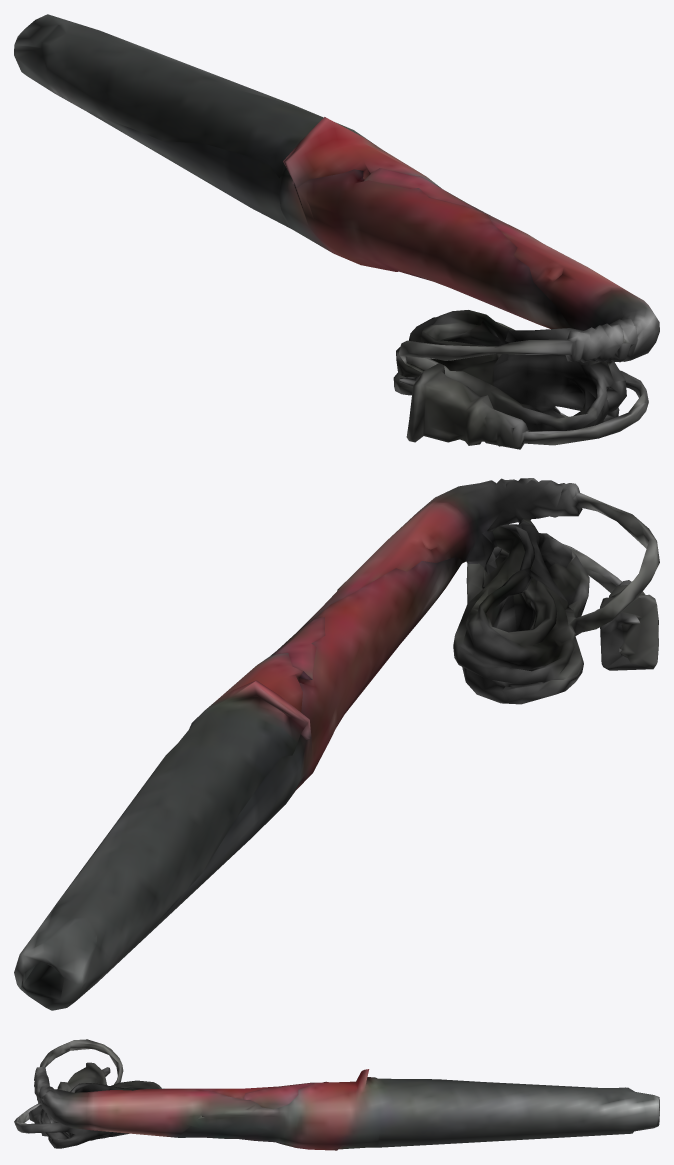
The model's file is Remington_1_12_inch_Hair_Straightener-medium.glb.
The picture shows the model from 3 angles, top to bottom: view 1: azimuth 30°, elevation 25°; view 2: azimuth 150°, elevation 25°; view 3: azimuth 270°, elevation 25°; orthographic projection. The views are drawn at different scales.
Parts seen in each view (by area): view 1: Remington_1_12_inch_Hair_Straightener; view 2: Remington_1_12_inch_Hair_Straightener; view 3: Remington_1_12_inch_Hair_Straightener.
Part boxes in pixels (x1,y1,x2,y2): Remington_1_12_inch_Hair_Straightener: (14, 14, 659, 449); Remington_1_12_inch_Hair_Straightener: (14, 478, 659, 1010); Remington_1_12_inch_Hair_Straightener: (14, 1039, 659, 1150).
Bounding box in the file's own units: 0.0903 × 0.0462 × 0.3649.
1 material, 1 textured.
